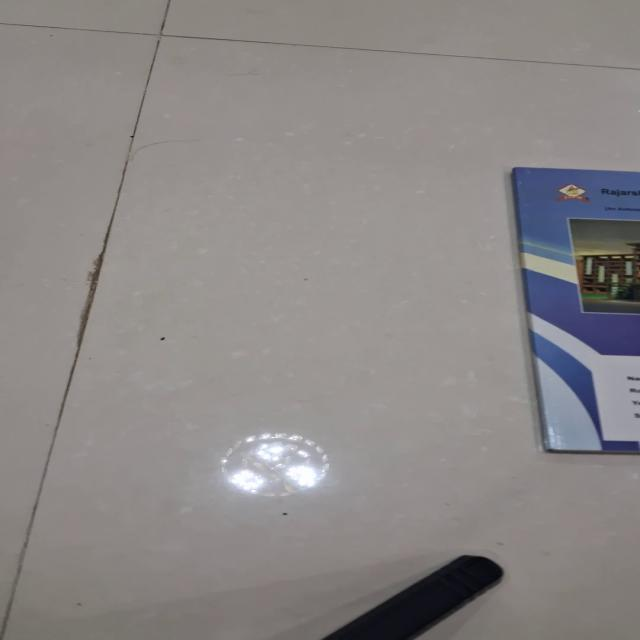paper: (510, 166, 639, 454)
